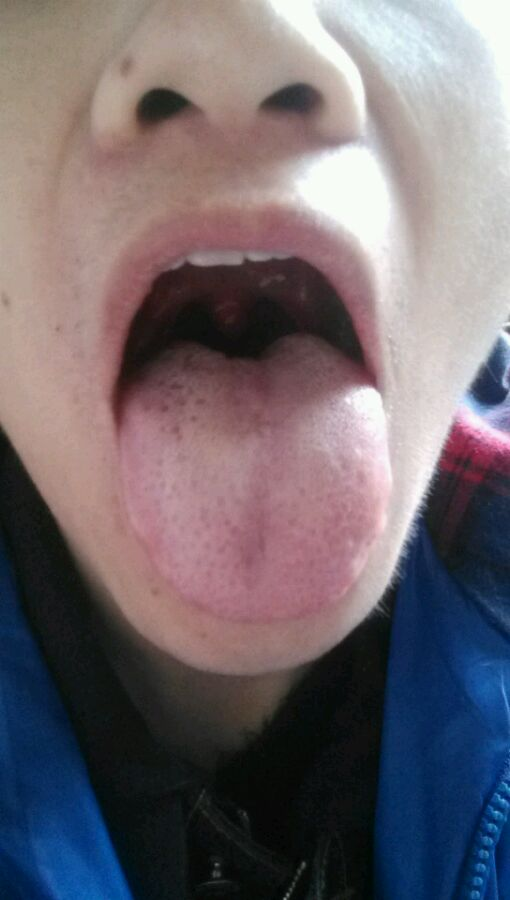baitaishe: (121, 332, 393, 620)
hongdianshe: (156, 401, 171, 416)
shenquao: (177, 332, 301, 375)
